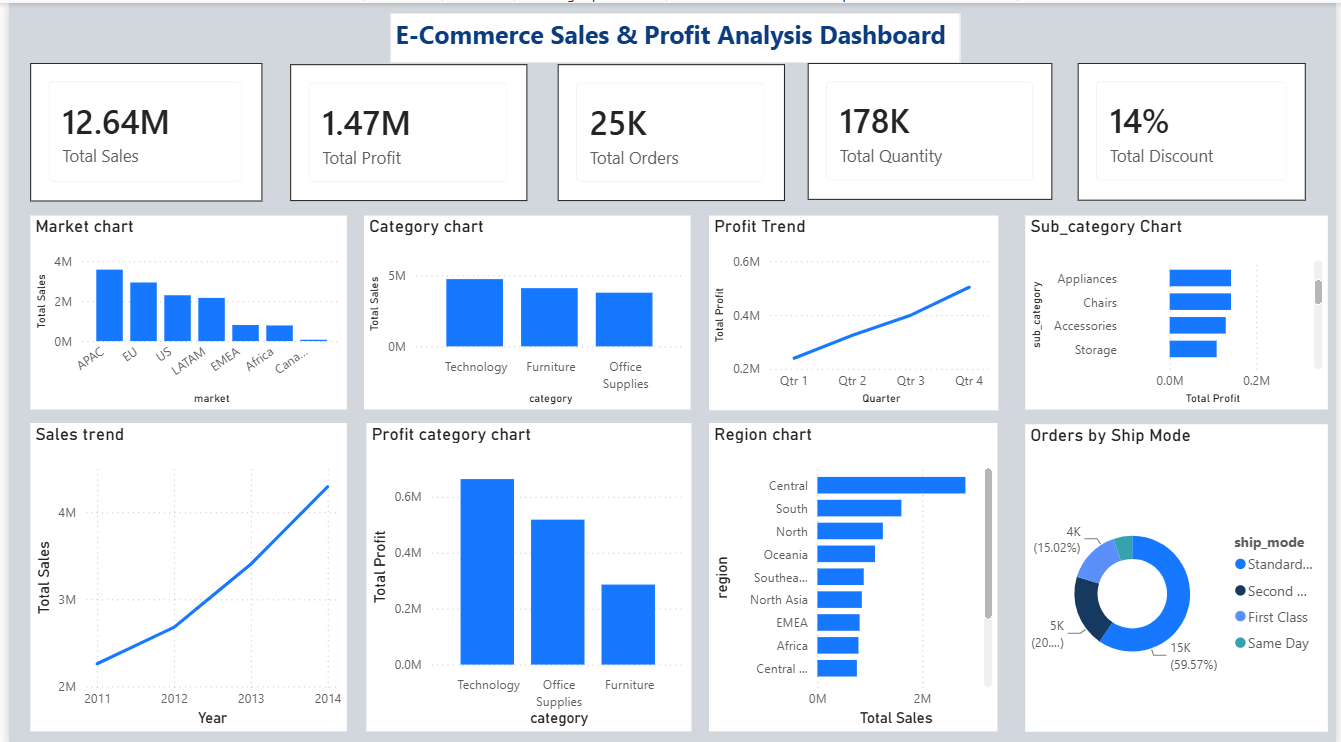

Layout of this report page (visuals, bound fields, positions):
{"tool":"powerbi","page":{"name":"Page 1","canvas":[1280,720],"ordinal":0},"visuals":[{"type":"cardVisual","fields":{"Data":["primeor_ecommerce ecommerce_sales.Total Sales"]},"box":[20.8,57.5,223.8,133.3],"z":0},{"type":"cardVisual","fields":{"Data":["primeor_ecommerce ecommerce_sales.Total Orders"]},"box":[529.5,58.7,218.9,132.1],"z":1},{"type":"cardVisual","fields":{"Data":["primeor_ecommerce ecommerce_sales.Total Profit"]},"box":[271.5,58.7,228.7,132.1],"z":2},{"type":"cardVisual","fields":{"Data":["primeor_ecommerce ecommerce_sales.Total Quantity"]},"box":[770.4,57.5,236,132.1],"z":3},{"type":"cardVisual","fields":{"Data":["primeor_ecommerce ecommerce_sales.Total Discount"]},"box":[1032.1,57.5,220,132.8],"z":4},{"type":"columnChart","title":"Market chart","fields":{"Category":["primeor_ecommerce ecommerce_sales.market"],"Y":["primeor_ecommerce ecommerce_sales.Total Sales"]},"box":[20.5,205.1,305.2,187],"z":5},{"type":"columnChart","title":"Category chart","fields":{"Category":["primeor_ecommerce ecommerce_sales.category"],"Y":["primeor_ecommerce ecommerce_sales.Total Sales"]},"box":[342.4,205.4,315.5,187.1],"z":6},{"type":"columnChart","title":"Profit category chart","fields":{"Category":["primeor_ecommerce ecommerce_sales.category"],"Y":["primeor_ecommerce ecommerce_sales.Total Profit"]},"box":[345,405.4,313.7,298],"z":7},{"type":"lineChart","title":"Sales trend","fields":{"Category":["primeor_ecommerce ecommerce_sales.order_date.Variation.Date Hierarchy.Year","primeor_ecommerce ecommerce_sales.order_date.Variation.Date Hierarchy.Quarter","primeor_ecommerce ecommerce_sales.order_date.Variation.Date Hierarchy.Month","primeor_ecommerce ecommerce_sales.order_date.Variation.Date Hierarchy.Day"],"Y":["primeor_ecommerce ecommerce_sales.Total Sales"]},"box":[20.5,405.4,305.2,298],"z":8},{"type":"lineChart","title":"Profit Trend","fields":{"Category":["primeor_ecommerce ecommerce_sales.order_date.Variation.Date Hierarchy.Year","primeor_ecommerce ecommerce_sales.order_date.Variation.Date Hierarchy.Quarter","primeor_ecommerce ecommerce_sales.order_date.Variation.Date Hierarchy.Month","primeor_ecommerce ecommerce_sales.order_date.Variation.Date Hierarchy.Day"],"Y":["primeor_ecommerce ecommerce_sales.Total Profit"]},"box":[675.3,204.9,278.8,187.8],"z":9},{"type":"barChart","title":"Region chart","fields":{"Category":["primeor_ecommerce ecommerce_sales.region"],"Y":["primeor_ecommerce ecommerce_sales.Total Sales"]},"box":[675.6,405.4,278.7,298],"z":10},{"type":"donutChart","title":"Orders by Ship Mode","fields":{"Category":["primeor_ecommerce ecommerce_sales.ship_mode"],"Y":["primeor_ecommerce ecommerce_sales.Total Orders"]},"box":[980.8,406.6,292,296.8],"z":11},{"type":"barChart","title":"Sub_category Chart","fields":{"Category":["primeor_ecommerce ecommerce_sales.sub_category"],"Y":["primeor_ecommerce ecommerce_sales.Total Profit"]},"box":[980.8,205.1,292,187],"z":12},{"type":"textbox","box":[368,9.4,550.5,48.3],"z":13}]}

Visuals, with their boxes in screenshot pixels (x1, y1, x2, y2), scaled from the page's 1280x720 canvas onto the 1341x742 screenshot:
cardVisual - primeor_ecommerce ecommerce_sales.Total Sales: 22:59:256:197
cardVisual - primeor_ecommerce ecommerce_sales.Total Orders: 555:60:784:197
cardVisual - primeor_ecommerce ecommerce_sales.Total Profit: 284:60:524:197
cardVisual - primeor_ecommerce ecommerce_sales.Total Quantity: 807:59:1054:195
cardVisual - primeor_ecommerce ecommerce_sales.Total Discount: 1081:59:1312:196
"Market chart" columnChart: 21:211:341:404
"Category chart" columnChart: 359:212:689:404
"Profit category chart" columnChart: 361:418:690:725
"Sales trend" lineChart: 21:418:341:725
"Profit Trend" lineChart: 707:211:1000:405
"Region chart" barChart: 708:418:1000:725
"Orders by Ship Mode" donutChart: 1028:419:1333:725
"Sub_category Chart" barChart: 1028:211:1333:404
textbox: 386:10:962:59
